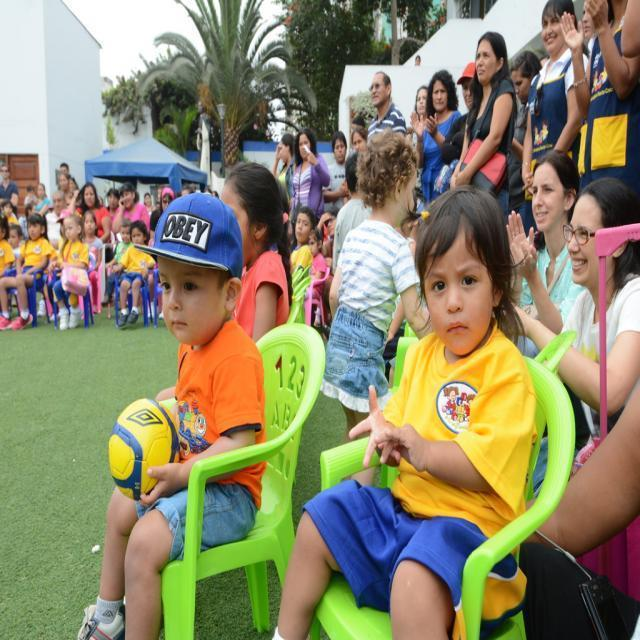ball: (109, 396, 182, 501)
